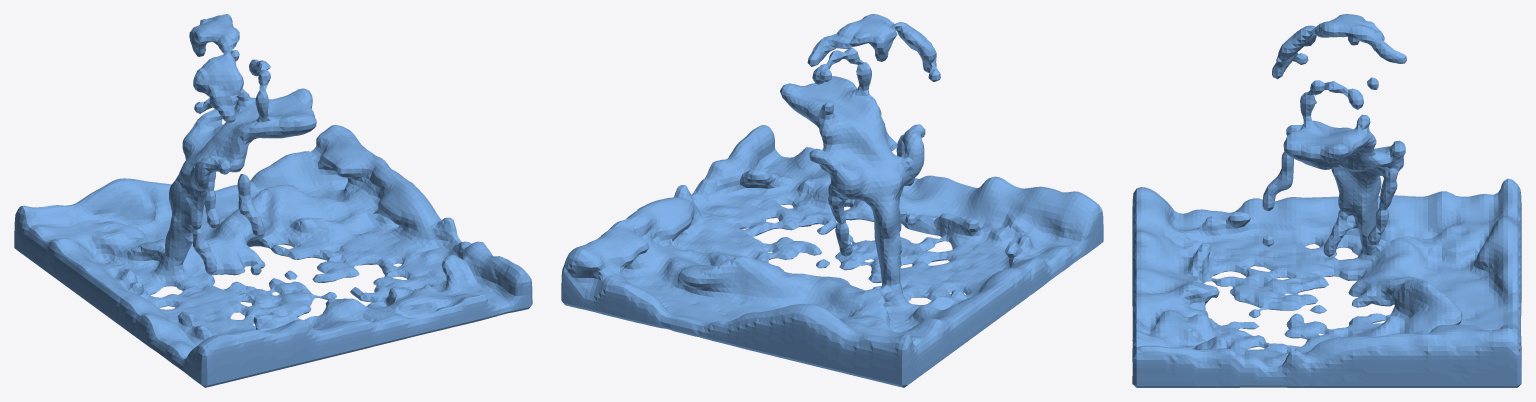
File: water_0090.glb
3 renders of one model, left to right at view 1: azimuth 30°, elevation 25°; view 2: azimuth 150°, elevation 25°; view 3: azimuth 270°, elevation 25°, orthographic. The views are drawn at different scales.
Parts seen in each view (by area): view 1: Water_0090; view 2: Water_0090; view 3: Water_0090.
Boxes of the visible parts, x1,y1,x2,y2 form: Water_0090: (14,14,532,387); Water_0090: (561,14,1103,387); Water_0090: (1132,14,1521,387).
Size of the model in its own units: 4.83 by 3.63 by 4.83.
